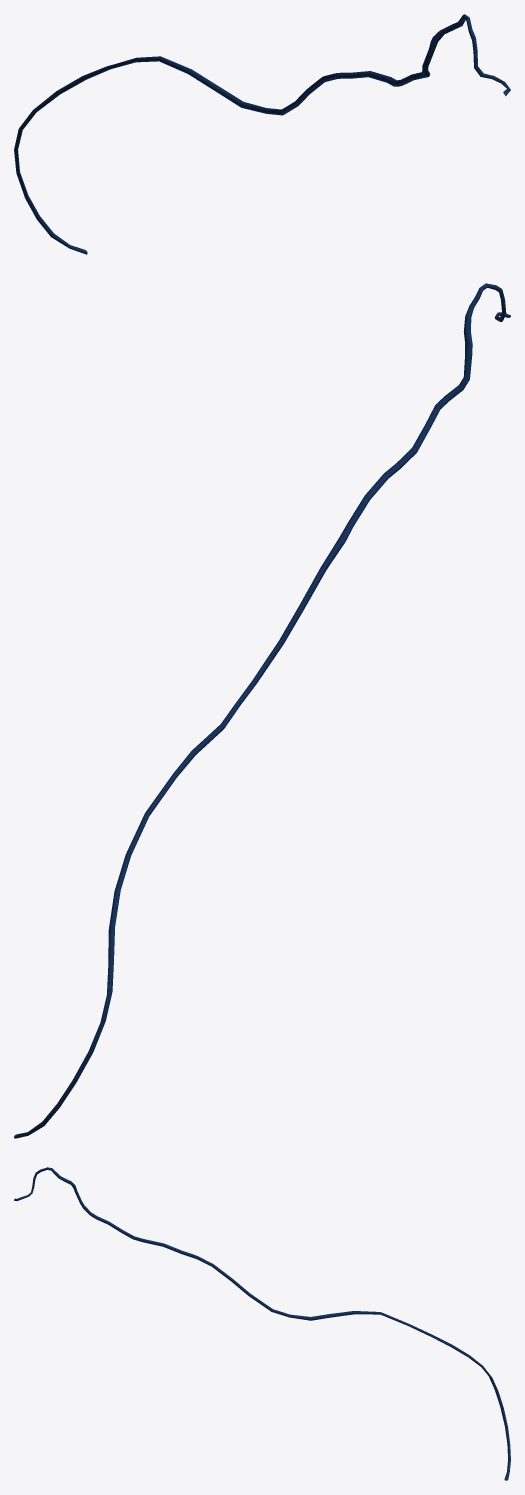
File: R vena vertebralis.fbx
3 views of the same model, one above another, from view 1: azimuth 30°, elevation 25°; view 2: azimuth 150°, elevation 25°; view 3: azimuth 270°, elevation 25° (orthographic). The views are drawn at different scales.
Visible parts, largest first — view 1: R vena vertebralis; view 2: R vena vertebralis; view 3: R vena vertebralis.
Boxes of the visible parts, x1,y1,x2,y2 form: R vena vertebralis: (14, 14, 510, 254); R vena vertebralis: (14, 283, 510, 1138); R vena vertebralis: (14, 1167, 510, 1480).
Bounding box in the file's own units: 3.41 × 22.25 × 33.29.
